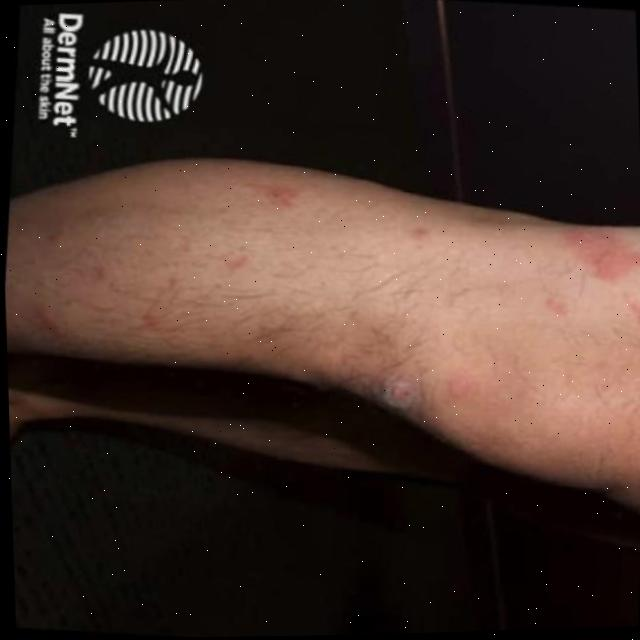Eczema: (592, 226, 640, 289), (267, 197, 294, 209)
